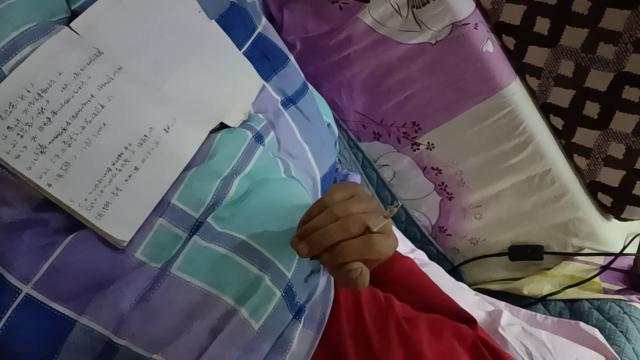Cigarette: (358, 200, 402, 242)
